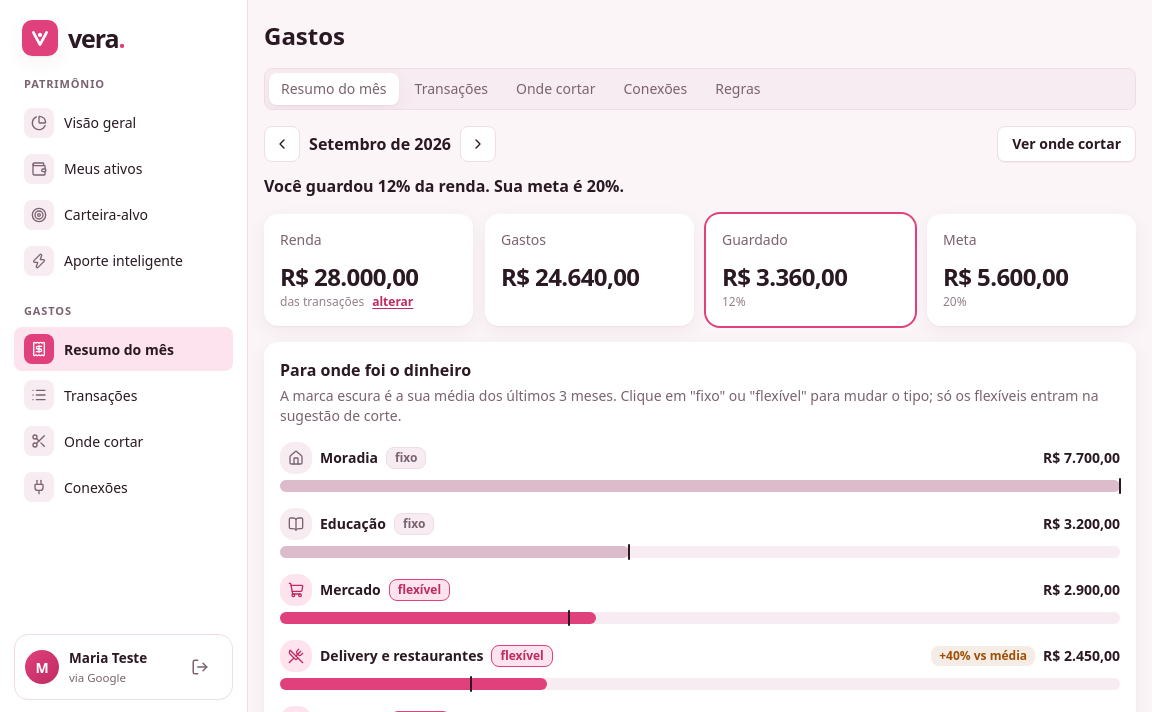
Scenario: resumo do mês: interações › o seletor de mês vai ao mês anterior e atualiza a URL e a requisição
Check: the text "Setembro de 2026" is shown, box [308, 132, 452, 156]
Click the button named "Mês anterior": x=282, y=144 [264, 126, 300, 162]
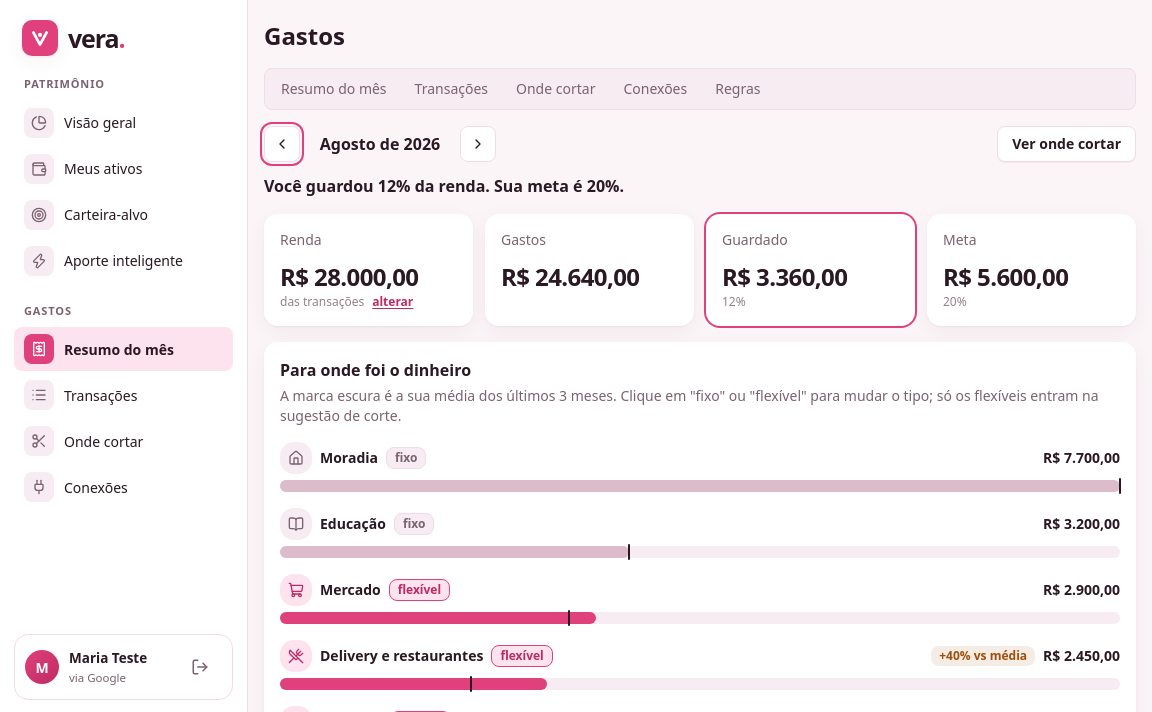
Check: the text "Agosto de 2026" is shown, box [320, 133, 440, 155]
